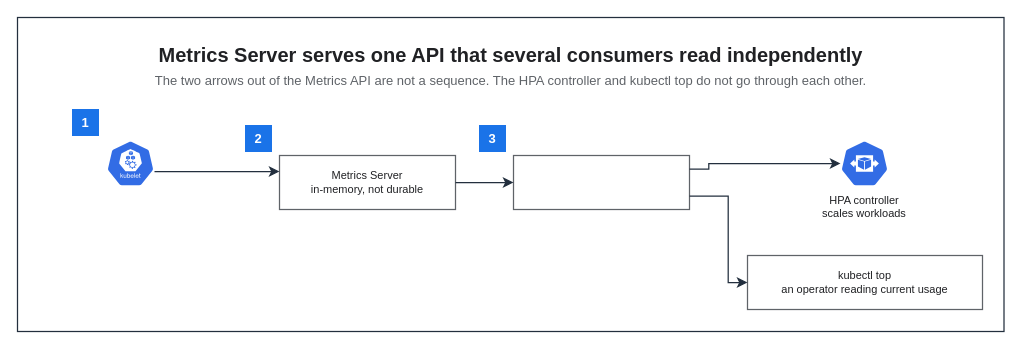
The diagram is 1022 pixels wide and 350 high, and some of its shapes have lost their labels. The centre of each missing label's shape, as x and y in pixels:
"kubelet on nodes cAdvisor summary" belongs at (x=130, y=163).
"Metrics API metrics.k8s.io" belongs at (x=601, y=182).
